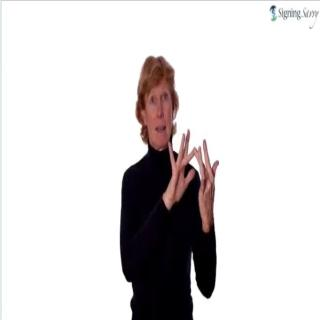Internet: (120, 50, 218, 312)
